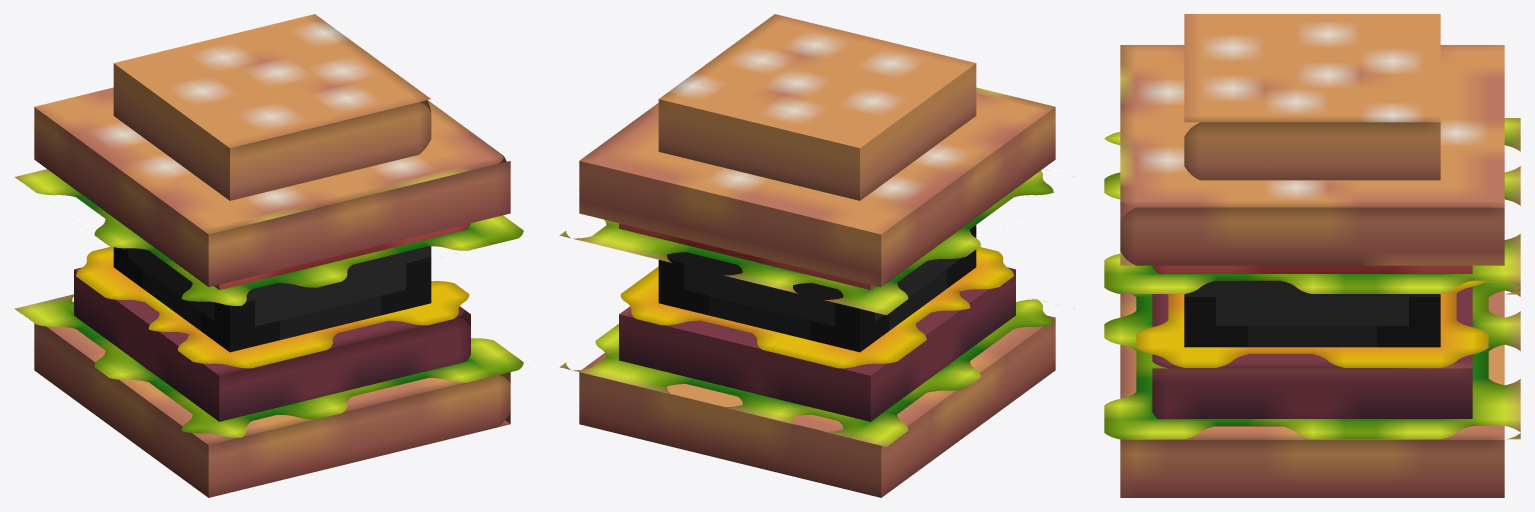
Rendered from burger_hat.obj.
3 views of the same model, side by side, from view 1: azimuth 30°, elevation 25°; view 2: azimuth 150°, elevation 25°; view 3: azimuth 270°, elevation 25° (orthographic). The views are drawn at different scales.
Visible parts, largest first — view 1: burger_hat_part_6, burger_hat_part_7, burger_hat_part_0, burger_hat_part_1, burger_hat_head, burger_hat_part_3, burger_hat_part_4, burger_hat_part_2, burger_hat_part_5; view 2: burger_hat_part_6, burger_hat_part_7, burger_hat_part_0, burger_hat_part_1, burger_hat_head, burger_hat_part_3, burger_hat_part_4, burger_hat_part_2, burger_hat_part_5; view 3: burger_hat_part_6, burger_hat_part_7, burger_hat_part_0, burger_hat_part_1, burger_hat_head, burger_hat_part_3, burger_hat_part_2, burger_hat_part_4, burger_hat_part_5.
Boxes of the visible parts, left/top/right/bottom form: burger_hat_part_6: left=34, top=87, right=510, bottom=286; burger_hat_part_7: left=113, top=14, right=431, bottom=200; burger_hat_part_0: left=34, top=323, right=510, bottom=497; burger_hat_part_1: left=74, top=267, right=470, bottom=421; burger_hat_head: left=113, top=246, right=431, bottom=352; burger_hat_part_3: left=14, top=294, right=523, bottom=437; burger_hat_part_4: left=76, top=246, right=469, bottom=368; burger_hat_part_2: left=15, top=169, right=523, bottom=305; burger_hat_part_5: left=214, top=223, right=470, bottom=289; burger_hat_part_6: left=579, top=87, right=1055, bottom=286; burger_hat_part_7: left=658, top=14, right=976, bottom=200; burger_hat_part_0: left=579, top=316, right=1055, bottom=497; burger_hat_part_1: left=619, top=267, right=1015, bottom=421; burger_hat_head: left=658, top=225, right=976, bottom=352; burger_hat_part_3: left=559, top=299, right=1053, bottom=446; burger_hat_part_4: left=620, top=247, right=1013, bottom=368; burger_hat_part_2: left=559, top=170, right=1053, bottom=315; burger_hat_part_5: left=619, top=223, right=875, bottom=289; burger_hat_part_6: left=1120, top=45, right=1504, bottom=265; burger_hat_part_7: left=1184, top=14, right=1440, bottom=180; burger_hat_part_0: left=1120, top=290, right=1504, bottom=497; burger_hat_part_1: left=1152, top=286, right=1472, bottom=426; burger_hat_head: left=1184, top=281, right=1440, bottom=354; burger_hat_part_3: left=1104, top=280, right=1520, bottom=439; burger_hat_part_2: left=1104, top=118, right=1520, bottom=294; burger_hat_part_4: left=1136, top=280, right=1488, bottom=367; burger_hat_part_5: left=1152, top=265, right=1472, bottom=280.
Size of the model in its own units: 0.8125 by 0.75 by 0.8125.
Materials: 2 (2 with a texture image).
